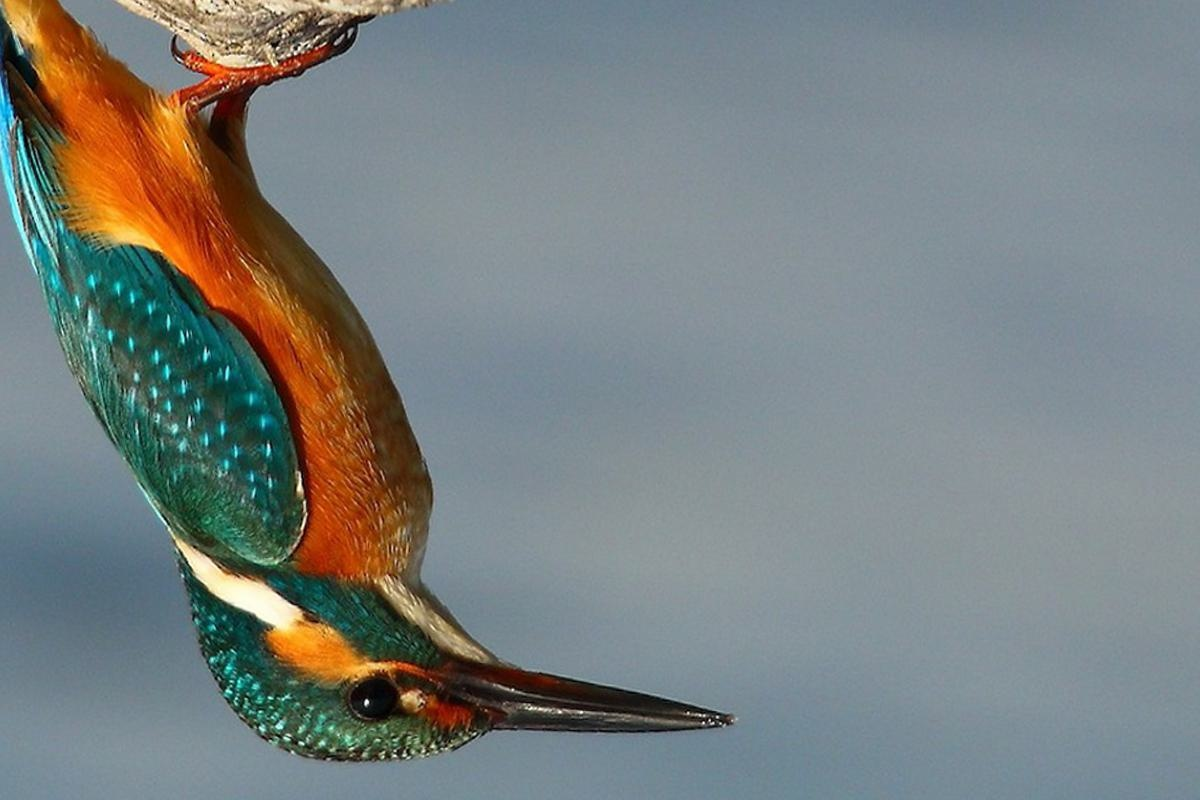kingfisher: (1, 1, 772, 779)
